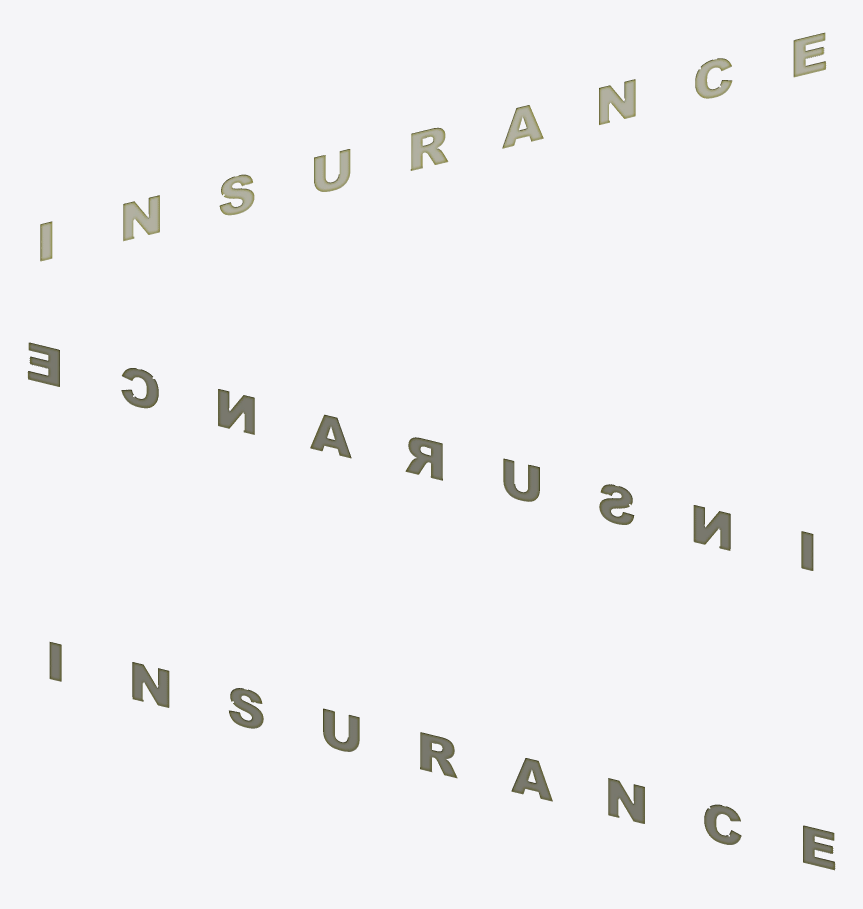
File: insurance_hor.fbx
3 views of the same model, one above another, from view 1: azimuth 30°, elevation 25°; view 2: azimuth 150°, elevation 25°; view 3: azimuth 330°, elevation 25° (orthographic).
Visible parts, largest first — view 1: mesh_0; view 2: mesh_0; view 3: mesh_0.
Part boxes in pixels (box(x1,y1,x2,y2)): mesh_0: box(40, 32, 826, 261); mesh_0: box(27, 342, 813, 570); mesh_0: box(49, 642, 835, 870).
Size of the model in its own units: 5200 by 400 by 100.
Materials: 1 (1 with a texture image).
